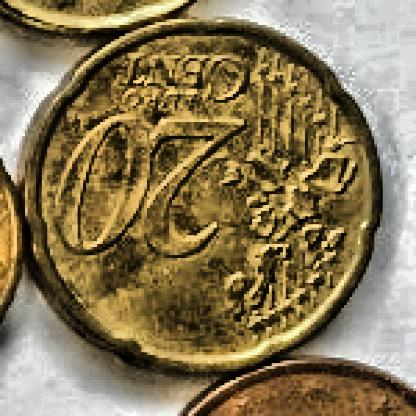coin: (25, 19, 386, 371)
